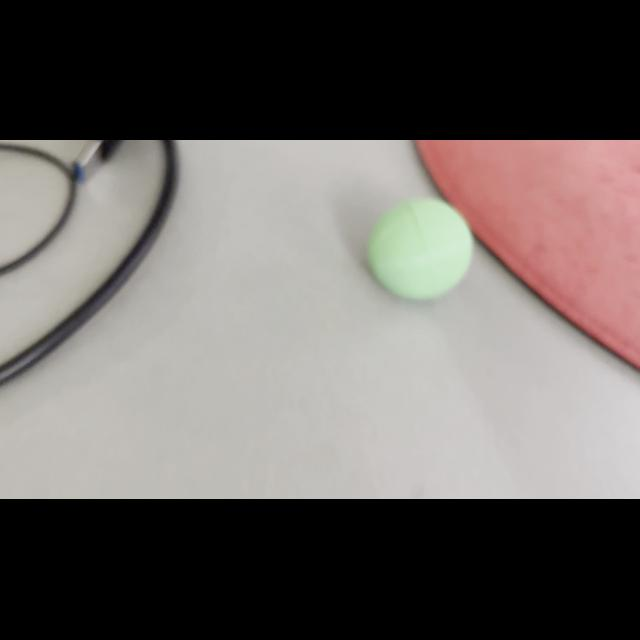objects: (360, 192, 480, 304)
